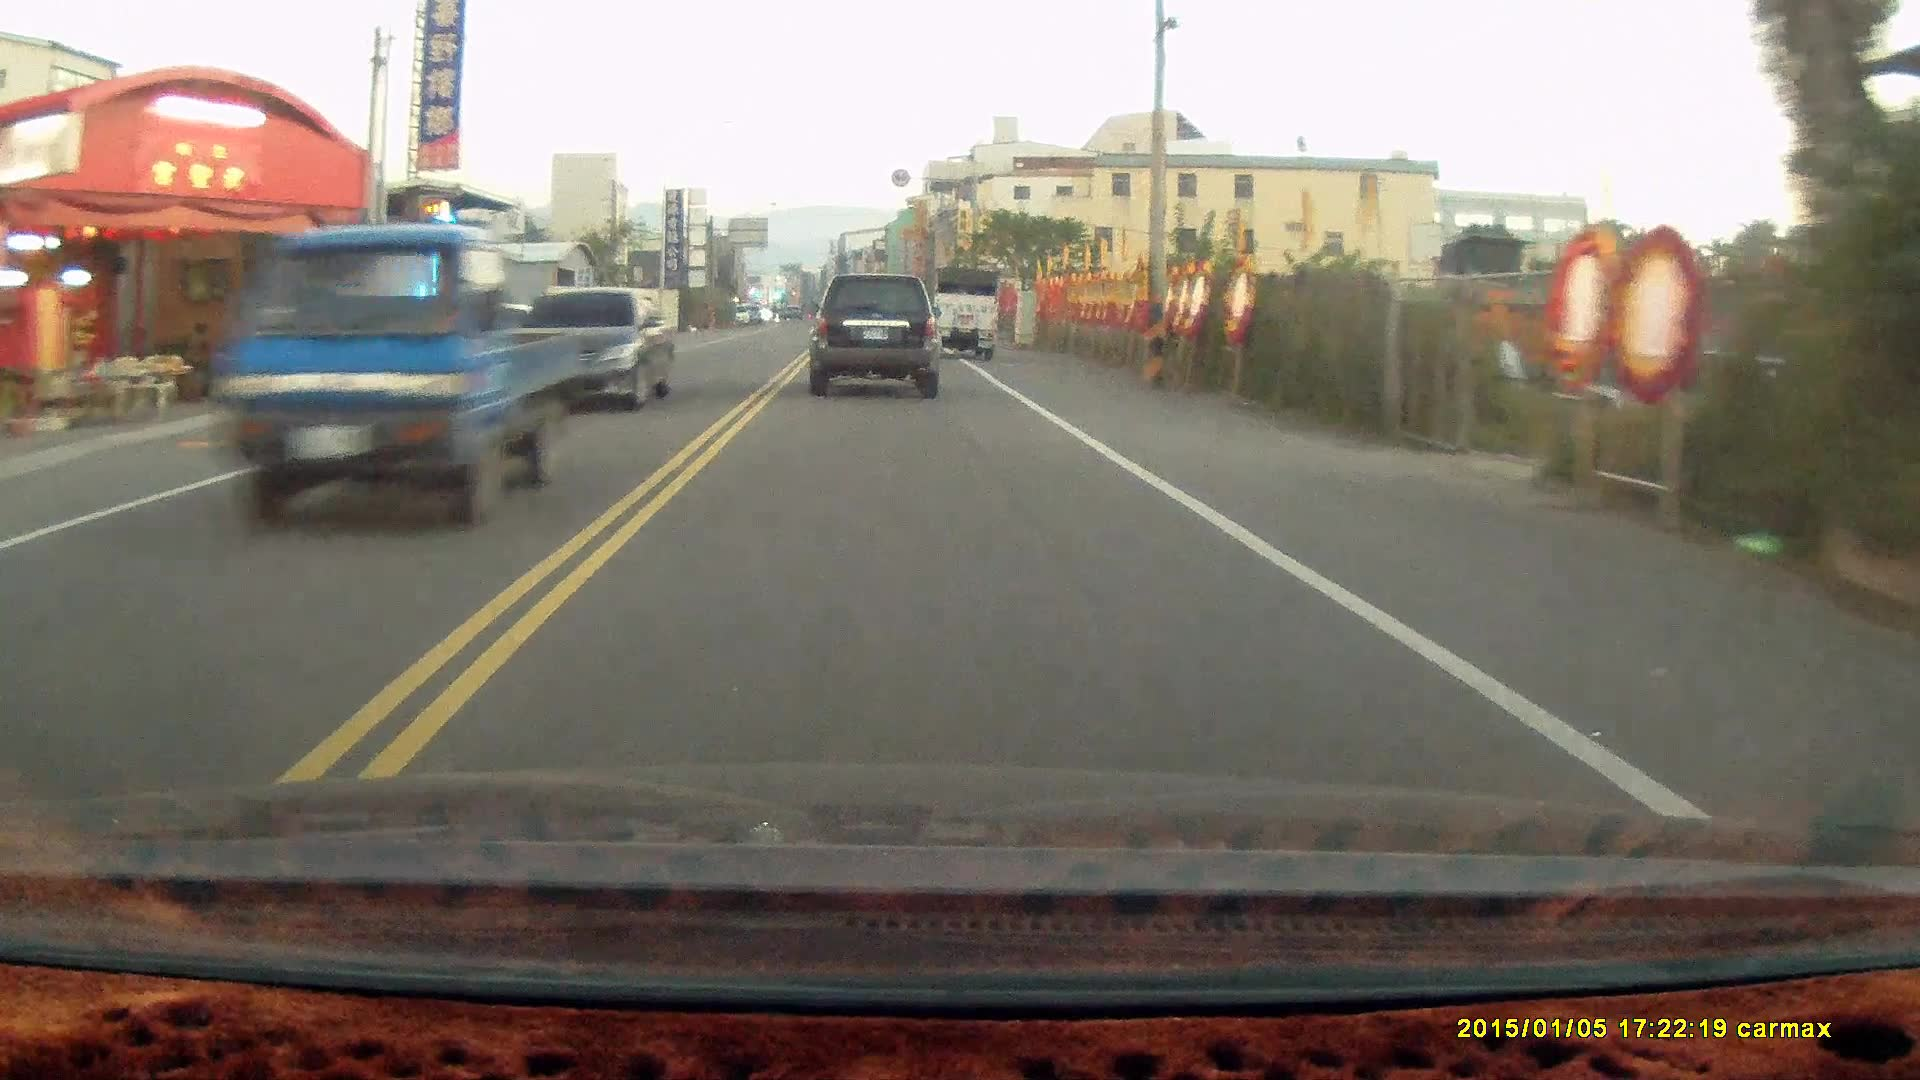vehicle: (199, 220, 589, 522), (520, 284, 674, 414), (806, 269, 942, 397), (931, 262, 1004, 357)
